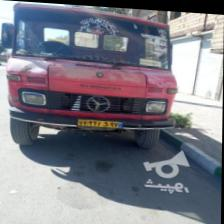plate: (78, 117, 124, 127)
